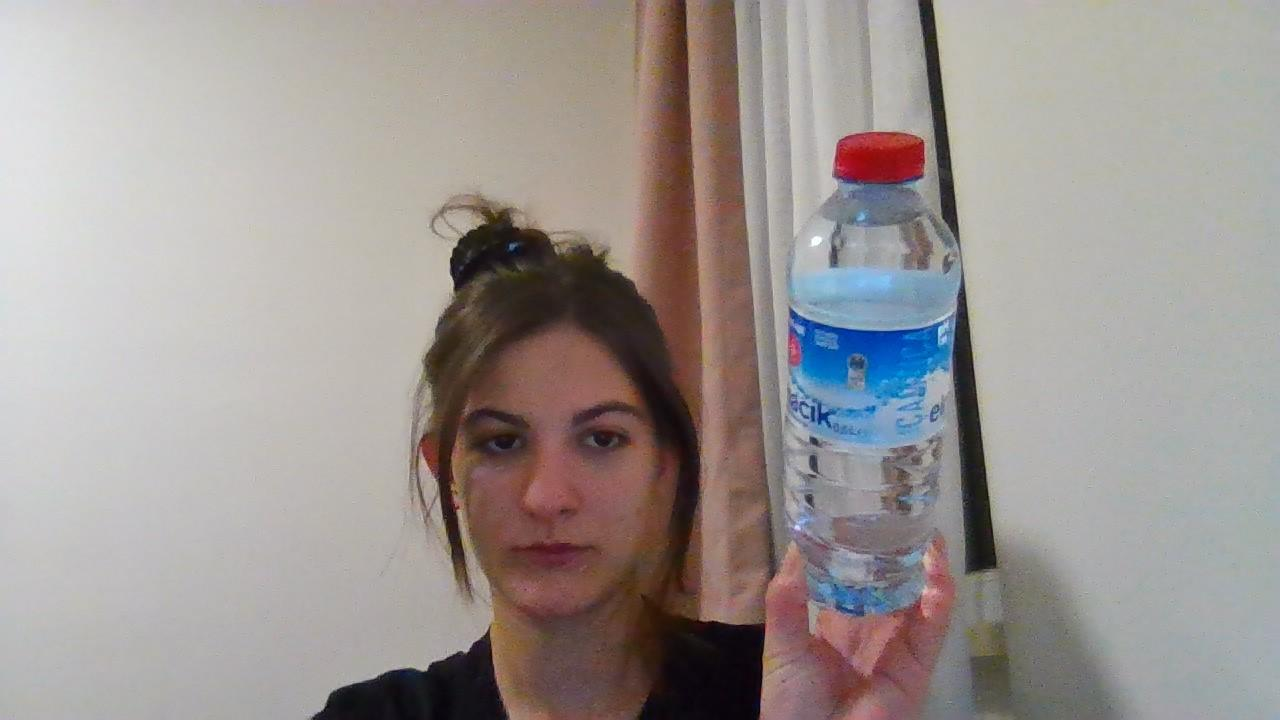bottle: (786, 132, 947, 615)
